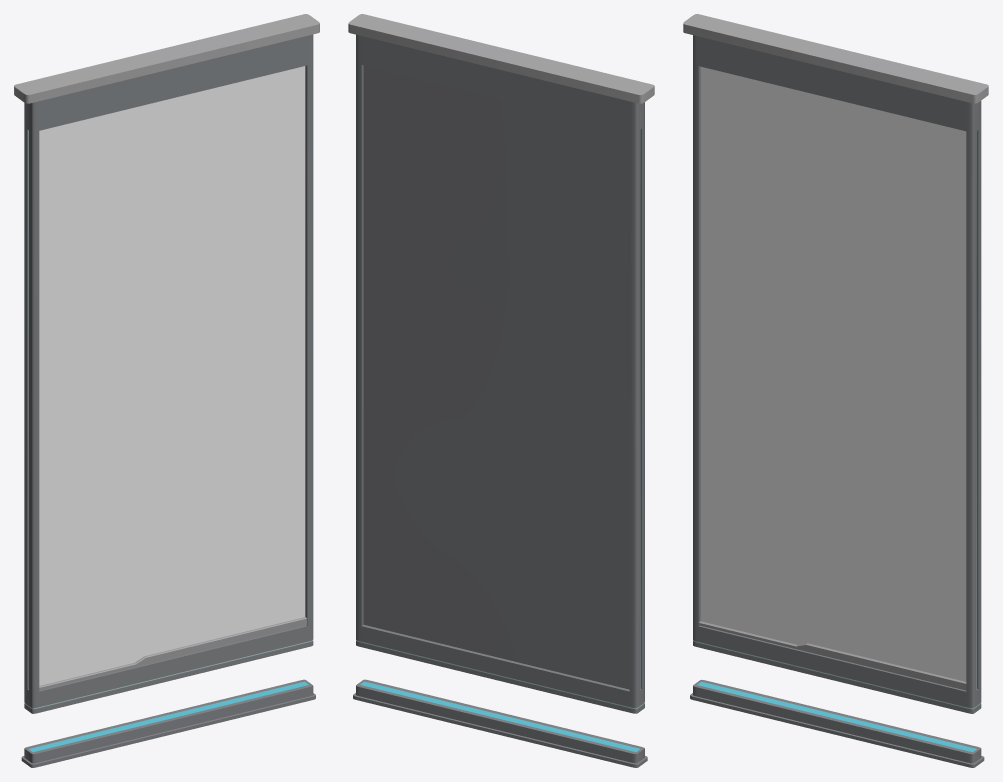
The model's file is MICE_Kiosk_Spacial_02.fbx.
The picture shows the model from 3 angles, left to right: view 1: azimuth 30°, elevation 25°; view 2: azimuth 150°, elevation 25°; view 3: azimuth 330°, elevation 25°; orthographic projection.
Parts seen in each view (by area): view 1: MICE_Kiosk_Spacial_02; view 2: MICE_Kiosk_Spacial_02; view 3: MICE_Kiosk_Spacial_02.
Part boxes in pixels (left/top/right/bottom): MICE_Kiosk_Spacial_02: left=14, top=14, right=319, bottom=767; MICE_Kiosk_Spacial_02: left=348, top=14, right=654, bottom=767; MICE_Kiosk_Spacial_02: left=683, top=14, right=988, bottom=767.
Bounding box in the file's own units: 2.17 × 0.1803 × 4.76.
